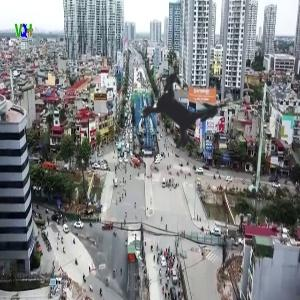drone: (105, 30, 260, 185)
